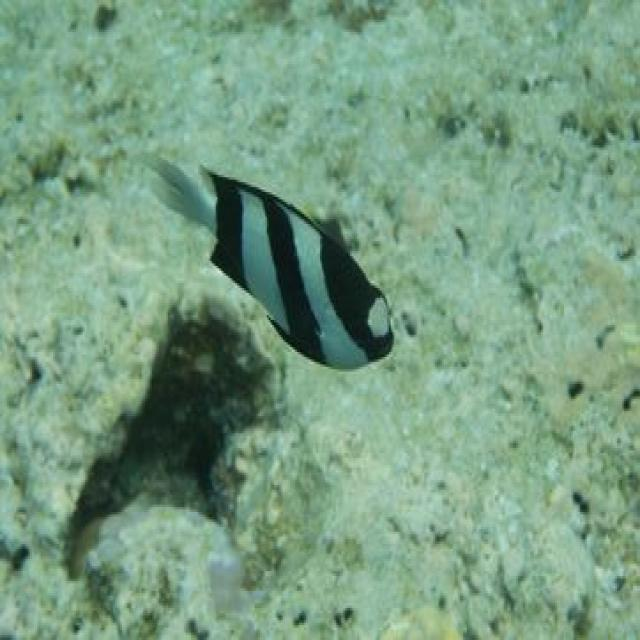Three_striped DasmselFish: (154, 146, 397, 371)
